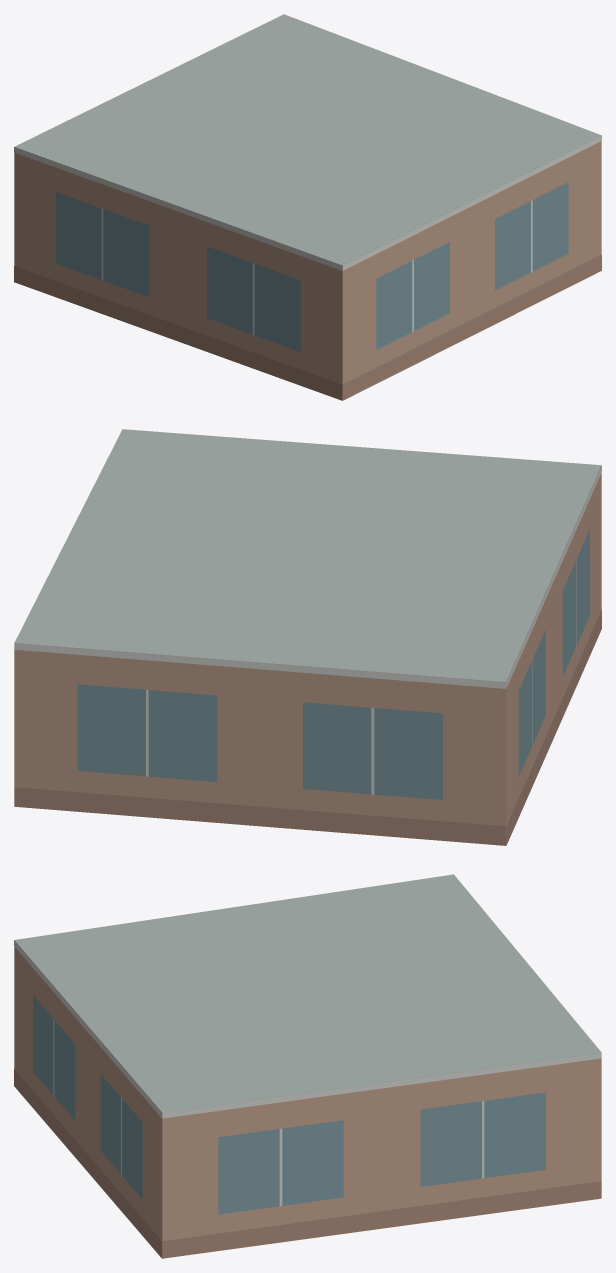
The model's file is survey-upis-32787650.glb.
3 views of the same model, one above another, from view 1: azimuth 30°, elevation 25°; view 2: azimuth 150°, elevation 25°; view 3: azimuth 270°, elevation 25° (orthographic). The views are drawn at different scales.
Parts seen in each view (by area): view 1: survey-upis-32787650.tmp; view 2: survey-upis-32787650.tmp; view 3: survey-upis-32787650.tmp.
Part boxes in pixels (left/top/right/bottom): survey-upis-32787650.tmp: left=14, top=14, right=601, bottom=400; survey-upis-32787650.tmp: left=14, top=429, right=601, bottom=845; survey-upis-32787650.tmp: left=14, top=874, right=601, bottom=1258.
Size of the model in its own units: 10.69 by 3.05 by 11.13.
